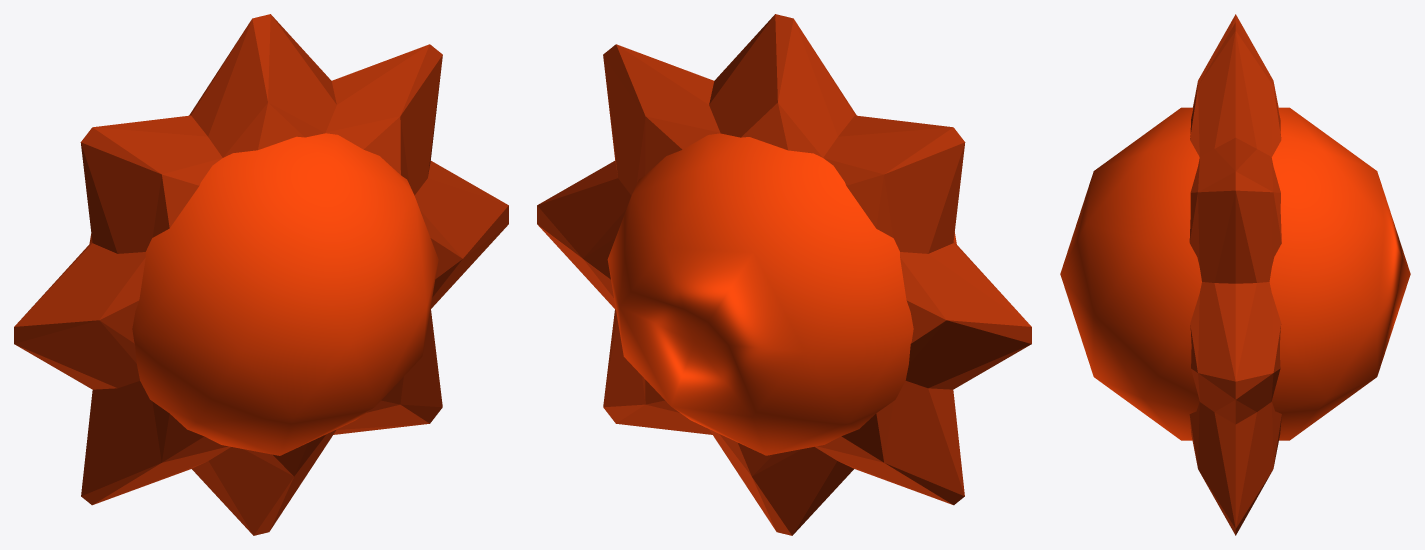
Rendered from sun.obj.
3 renders of one model, left to right at view 1: azimuth 30°, elevation 25°; view 2: azimuth 150°, elevation 25°; view 3: azimuth 270°, elevation 25°, orthographic. The views are drawn at different scales.
Parts seen in each view (by area): view 1: Sun_483; view 2: Sun_483; view 3: Sun_483.
Boxes of the visible parts, <box> form: Sun_483: <box>14,14,508,535</box>; Sun_483: <box>537,14,1031,535</box>; Sun_483: <box>1060,14,1410,535</box>.
Size of the model in its own units: 6.46 by 6.46 by 4.13.
